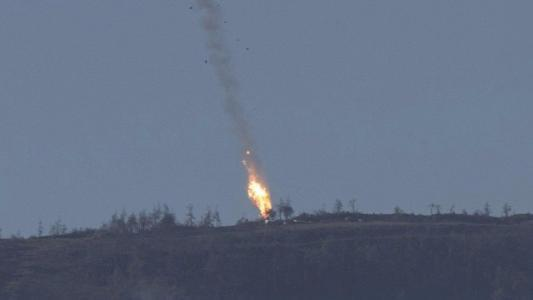fire: (240, 171, 271, 220)
